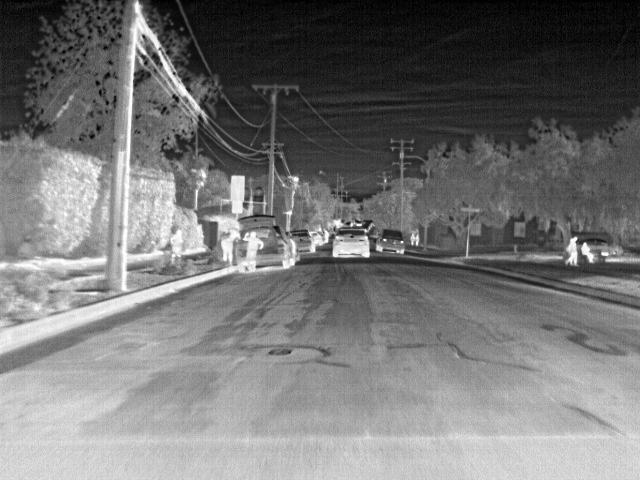car: (241, 226, 302, 269), (333, 228, 371, 258), (375, 227, 405, 255), (292, 227, 316, 251), (310, 225, 329, 247), (362, 220, 372, 230)
person: (246, 230, 260, 267), (222, 229, 236, 263), (173, 230, 186, 266), (568, 236, 580, 267), (581, 239, 593, 264)
